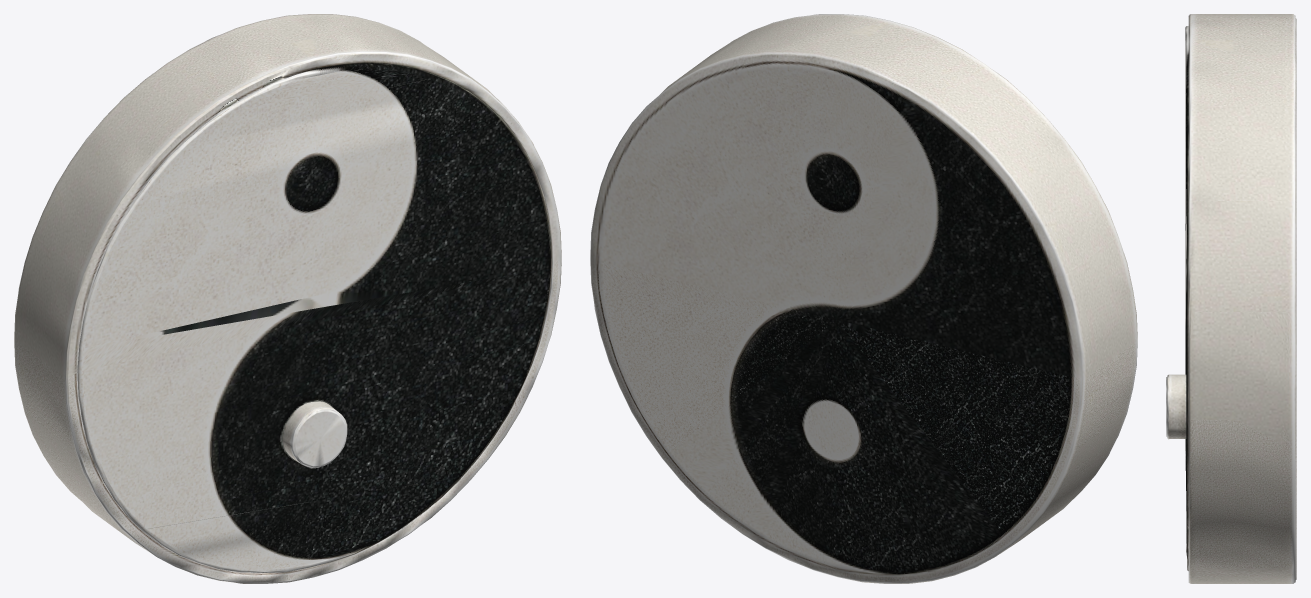
File: taichi_platform.glb
3 views of the same model, side by side, from view 1: azimuth 30°, elevation 25°; view 2: azimuth 150°, elevation 25°; view 3: azimuth 270°, elevation 25° (orthographic).
Visible parts, largest first — view 1: tripo_node_52f8b2cb-69c5-4bd7-9e37-369d46bbbaf7; view 2: tripo_node_52f8b2cb-69c5-4bd7-9e37-369d46bbbaf7; view 3: tripo_node_52f8b2cb-69c5-4bd7-9e37-369d46bbbaf7.
Boxes of the visible parts, x1,y1,x2,y2 form: tripo_node_52f8b2cb-69c5-4bd7-9e37-369d46bbbaf7: (14,14,561,583); tripo_node_52f8b2cb-69c5-4bd7-9e37-369d46bbbaf7: (590,14,1137,583); tripo_node_52f8b2cb-69c5-4bd7-9e37-369d46bbbaf7: (1166,14,1296,583).
Bounding box in the file's own units: 0.998 × 0.998 × 0.2285.
Materials: 1 (1 with a texture image).
